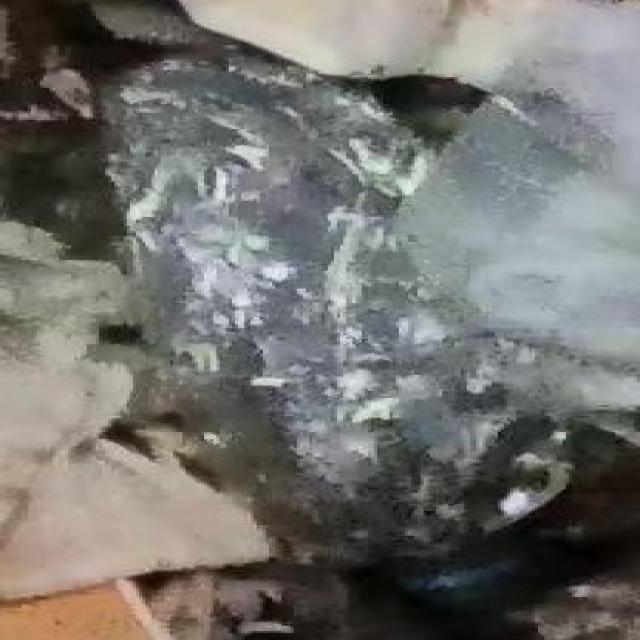litter: (24, 15, 639, 632)
